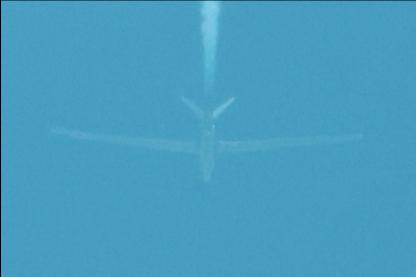P3: (49, 94, 364, 182)
